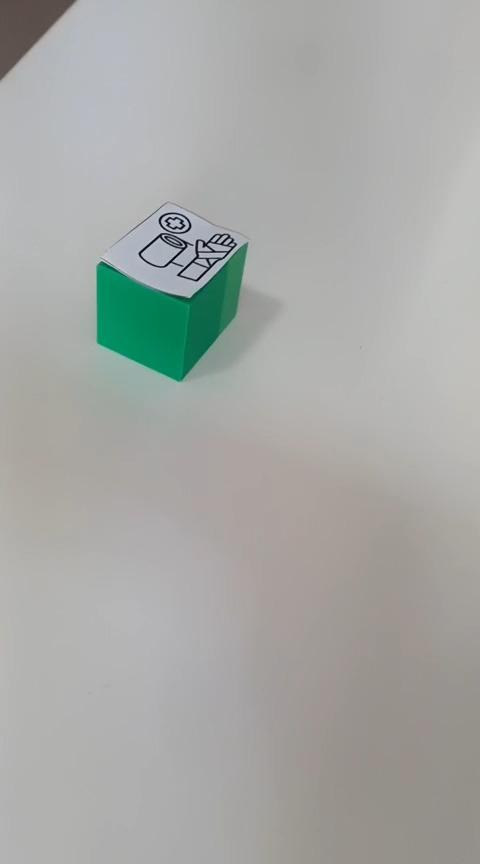Bandages: (95, 199, 250, 382)
